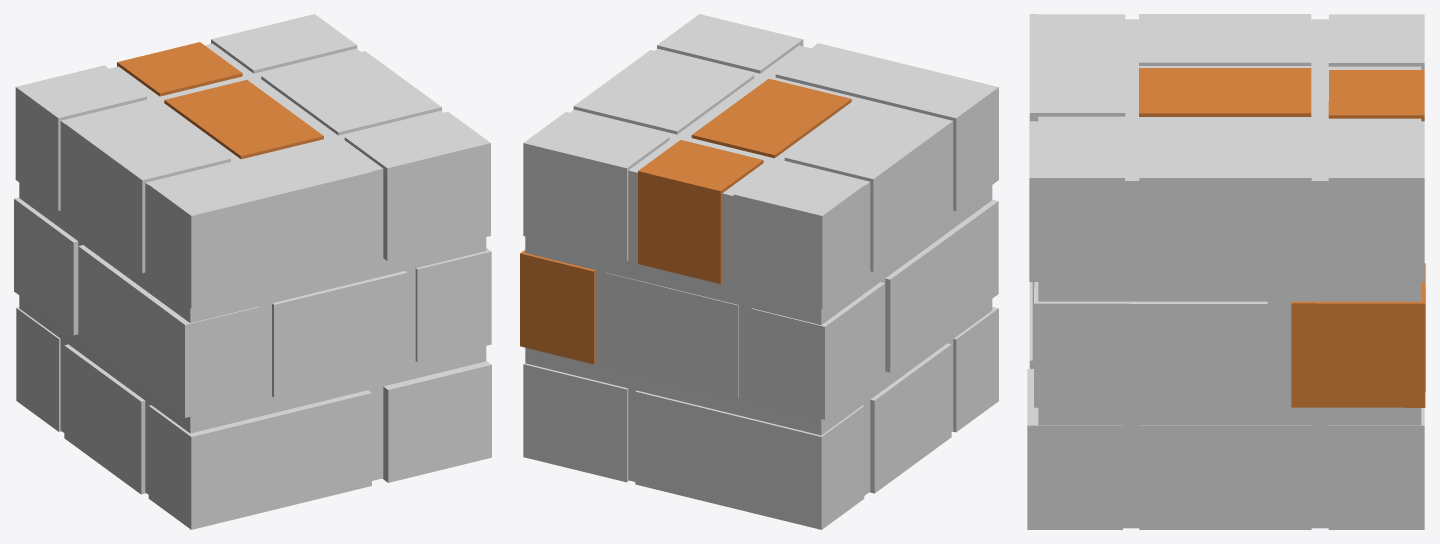
The model's file is brick_type1.glb.
3 views of the same model, side by side, from view 1: azimuth 30°, elevation 25°; view 2: azimuth 150°, elevation 25°; view 3: azimuth 270°, elevation 25° (orthographic). The views are drawn at different scales.
Parts seen in each view (by area): view 1: Cube.012, Cube, Cube.023, Cube.009, Cube.016, Cube.010, Cube.019, Cube.020, Cube.013, Cube.015, Cube.025, Cube.017 (+5 smaller); view 2: Cube, Cube.021, Cube.015, Cube.010, Cube.011, Cube.018, Cube.014, Cube.012, Cube.027, Cube.009, Cube.024, Cube.013 (+5 smaller); view 3: Cube, Cube.013, Cube.017, Cube.022, Cube.011, Cube.016, Cube.003, Cube.020, Cube.024, Cube.012, Cube.010, Cube.026 (+2 smaller).
Boxes of the visible parts, x1,y1,x2,y2 form: Cube.012: [148, 141, 371, 308]; Cube: [19, 43, 486, 494]; Cube.023: [148, 390, 371, 529]; Cube.009: [78, 245, 259, 417]; Cube.016: [344, 112, 490, 260]; Cube.010: [65, 102, 230, 272]; Cube.019: [272, 271, 407, 397]; Cube.020: [382, 361, 491, 482]; Cube.013: [261, 51, 441, 135]; Cube.015: [15, 65, 146, 210]; Cube.025: [64, 344, 145, 494]; Cube.017: [415, 248, 491, 362]; Cube: [525, 45, 992, 495]; Cube.021: [635, 390, 864, 529]; Cube.015: [733, 163, 864, 308]; Cube.010: [784, 101, 950, 271]; Cube.011: [523, 112, 669, 261]; Cube.018: [751, 282, 885, 419]; Cube.014: [605, 272, 738, 398]; Cube.012: [775, 43, 998, 211]; Cube.027: [638, 140, 763, 283]; Cube.009: [885, 199, 998, 372]; Cube.024: [523, 363, 628, 482]; Cube.013: [573, 50, 754, 134]; Cube: [1038, 19, 1421, 528]; Cube.013: [1139, 121, 1311, 281]; Cube.017: [1034, 282, 1267, 408]; Cube.022: [1139, 425, 1311, 529]; Cube.011: [1328, 121, 1424, 281]; Cube.016: [1029, 121, 1124, 281]; Cube.003: [1291, 263, 1425, 407]; Cube.020: [1027, 369, 1122, 529]; Cube.024: [1328, 408, 1424, 529]; Cube.012: [1029, 14, 1125, 121]; Cube.010: [1139, 14, 1311, 65]; Cube.026: [1139, 68, 1311, 116].
Bounding box in the file's own units: 2.07 × 2.03 × 2.08.
